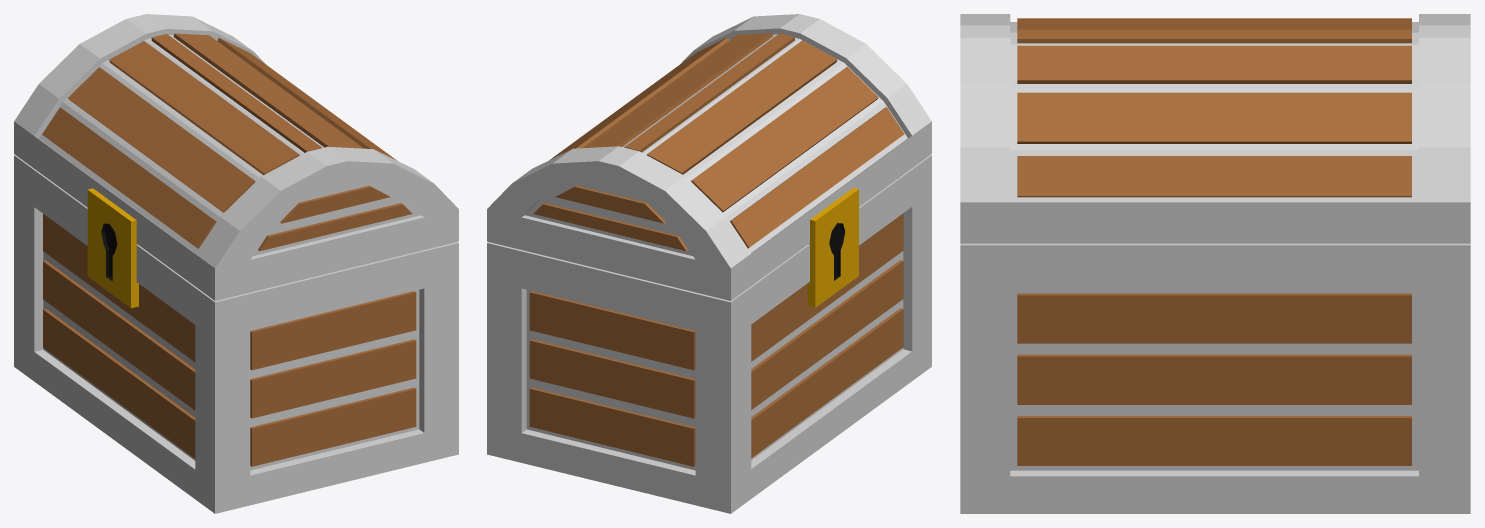
Rendered from treasure.glb.
3 renders of one model, left to right at view 1: azimuth 30°, elevation 25°; view 2: azimuth 150°, elevation 25°; view 3: azimuth 270°, elevation 25°, orthographic. The views are drawn at different scales.
Visible parts, largest first — view 1: Treasure, Treasure Wood, Treasure Keylock Border, Treasure Keylock; view 2: Treasure, Treasure Wood, Treasure Keylock Border, Treasure Keylock; view 3: Treasure, Treasure Wood.
Part boxes in pixels (x1,y1,x2,y2): Treasure: (14,14,458,513); Treasure Wood: (42,33,416,466); Treasure Keylock Border: (87,188,138,308); Treasure Keylock: (101,223,117,281); Treasure: (487,14,931,513); Treasure Wood: (529,33,904,466); Treasure Keylock Border: (807,188,858,307); Treasure Keylock: (829,223,845,280); Treasure: (960,14,1470,513); Treasure Wood: (1017,18,1411,465).
Bounding box in the file's own units: 1.43 × 1.76 × 2.
